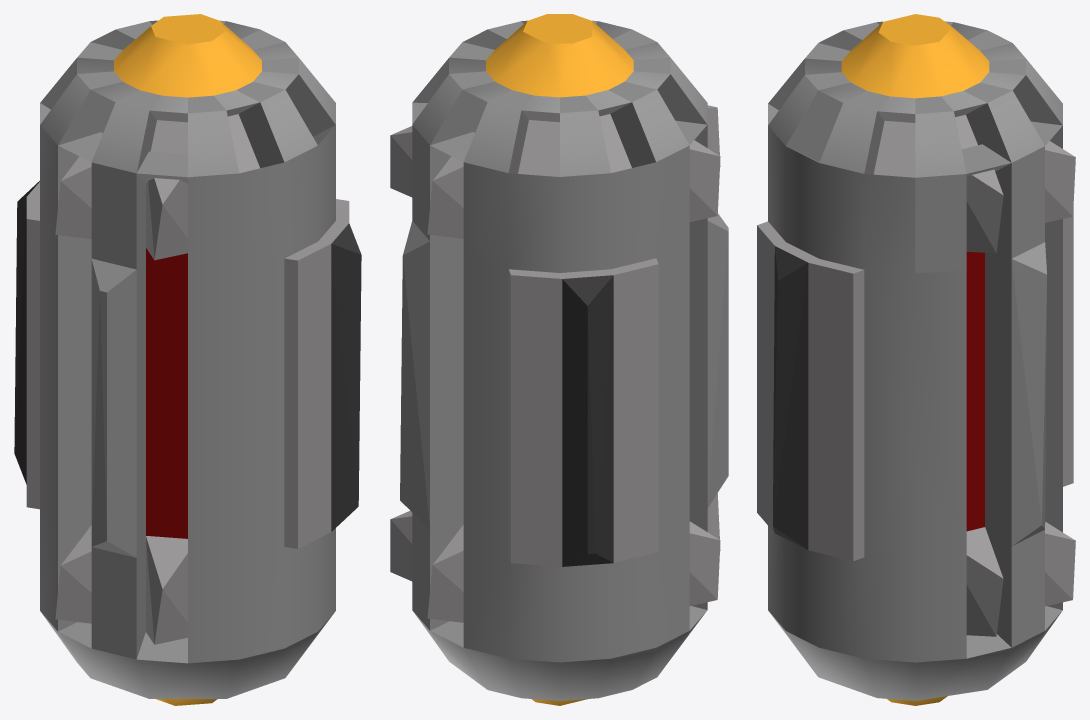
Rendered from Pickup 1.FBX.
3 views of the same model, side by side, from view 1: azimuth 30°, elevation 25°; view 2: azimuth 150°, elevation 25°; view 3: azimuth 270°, elevation 25° (orthographic).
Visible parts, largest first — view 1: Cylinder001; view 2: Cylinder001; view 3: Cylinder001.
Part boxes in pixels (x1,y1,x2,y2): Cylinder001: [14, 14, 361, 705]; Cylinder001: [390, 14, 728, 705]; Cylinder001: [757, 14, 1075, 705].
Size of the model in its own units: 17.37 by 39.9 by 17.46.
